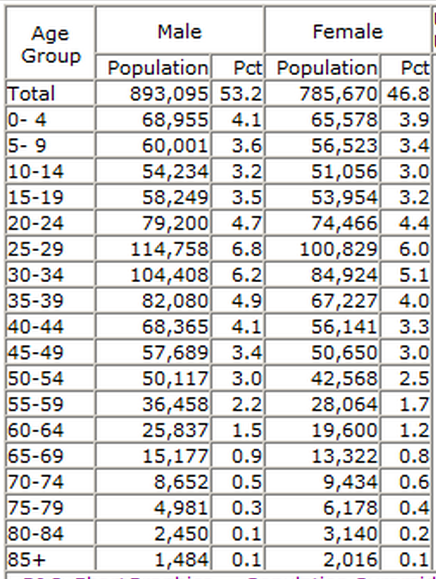fracking table: (6, 6, 432, 571)
